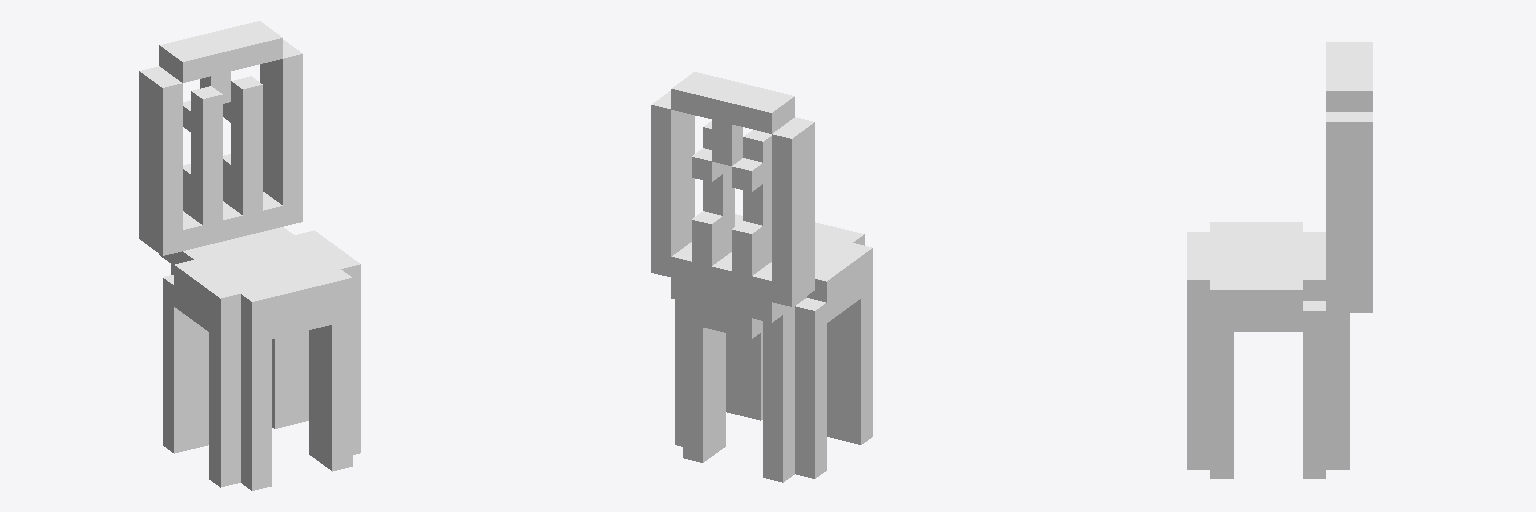
The model's file is diningchair2.obj.
3 views of the same model, side by side, from view 1: azimuth 30°, elevation 25°; view 2: azimuth 150°, elevation 25°; view 3: azimuth 270°, elevation 25° (orthographic).
Parts seen in each view (by area): view 1: object 1; view 2: object 1; view 3: object 1.
Boxes of the visible parts, x1,y1,x2,y2 form: object 1: [139, 21, 360, 490]; object 1: [651, 72, 872, 482]; object 1: [1187, 42, 1372, 478].
Size of the model in its own units: 0.7 by 1.8 by 0.8.